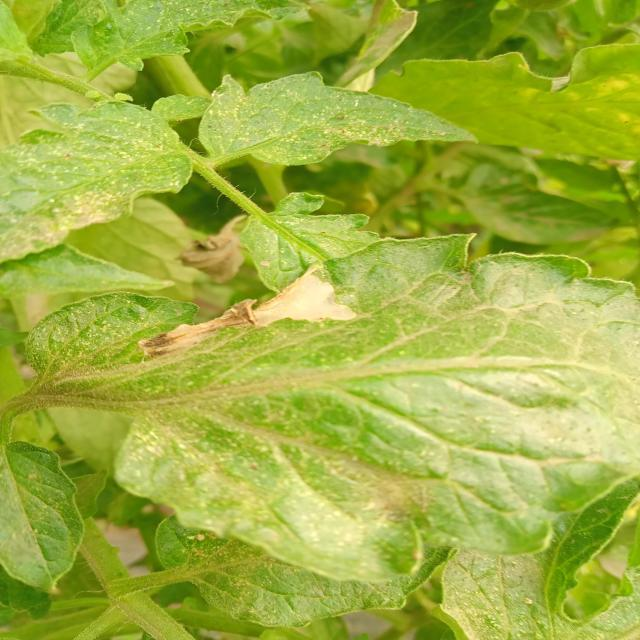Tuta absoluta: (247, 263, 357, 341)
